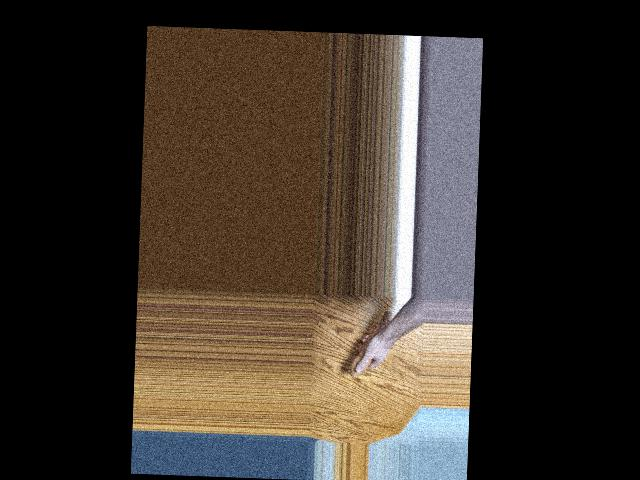sweet_potato: (349, 297, 393, 380)
